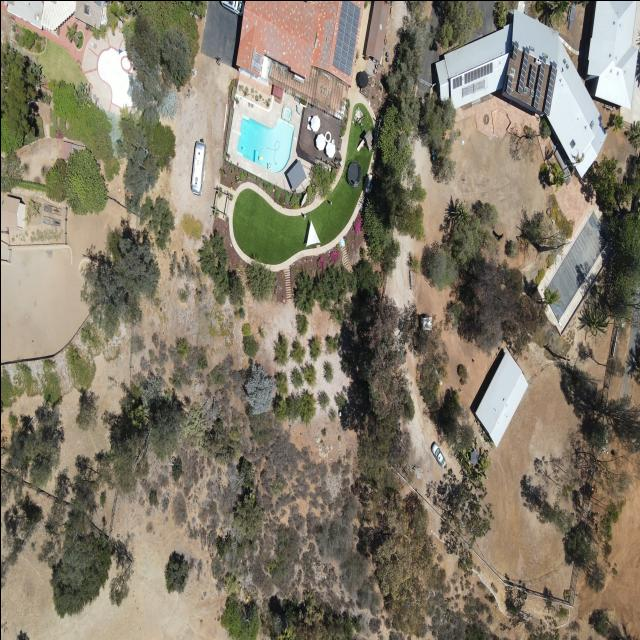solar-panels: (460, 61, 495, 84), (543, 59, 557, 114), (532, 54, 546, 109), (517, 44, 530, 94), (448, 74, 465, 89), (527, 62, 536, 89), (511, 38, 519, 60), (505, 73, 513, 94), (93, 0, 101, 6)
